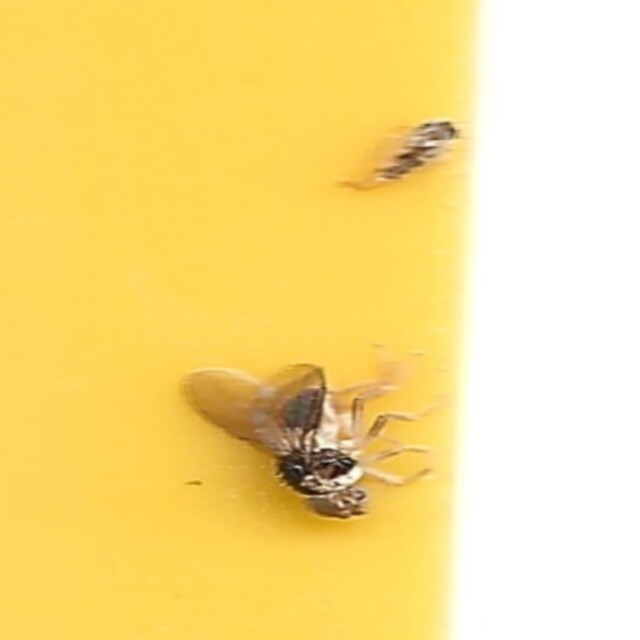Brachycera: (175, 361, 433, 529)
Hemiptera: (338, 111, 465, 194)
